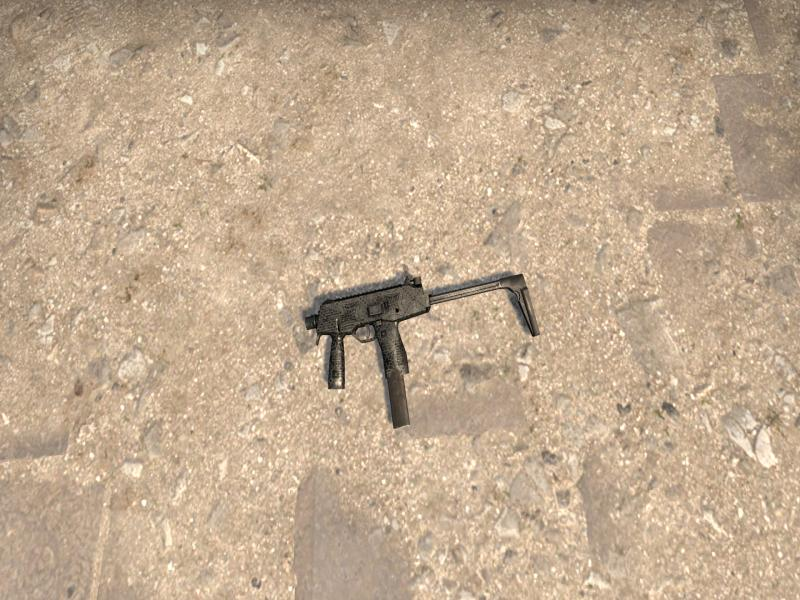MP9: (305, 273, 540, 428)
